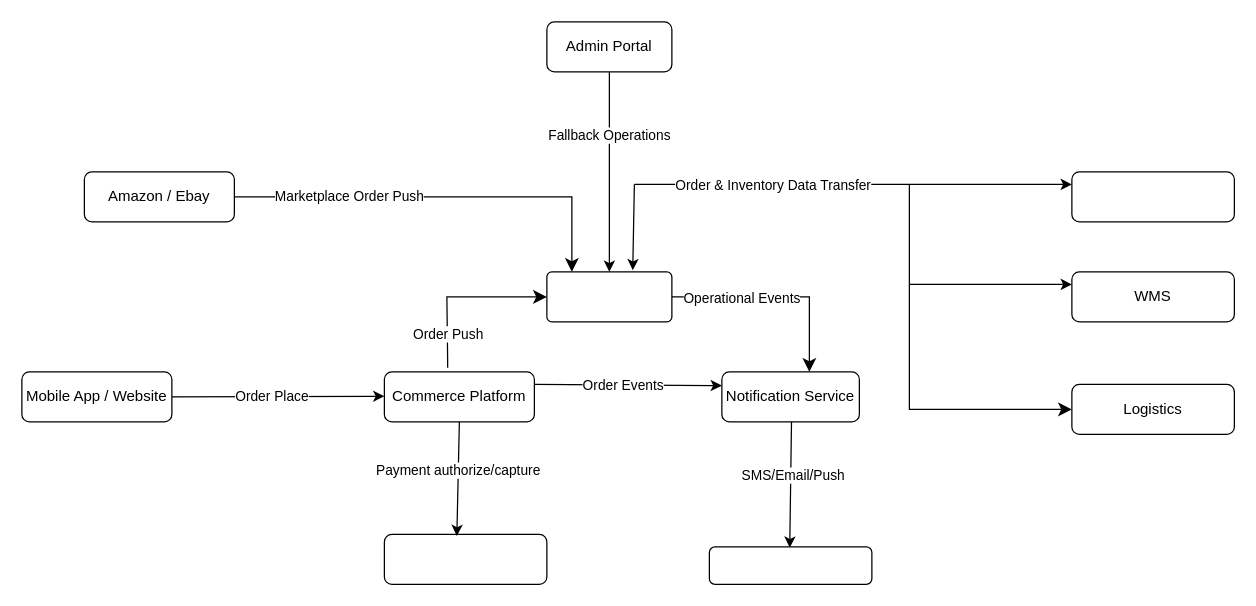
Some shapes in this 1256 by 606 pixel diagram are drawn without their labels. The box of each missing label's shape, as (x1, y1, x2, y2) in pixels:
Customer / Ops / Dev: (708, 546, 872, 584)
ERP: (1071, 171, 1234, 222)
OMS: (546, 271, 672, 322)
Payment Gateway: (383, 533, 547, 584)
